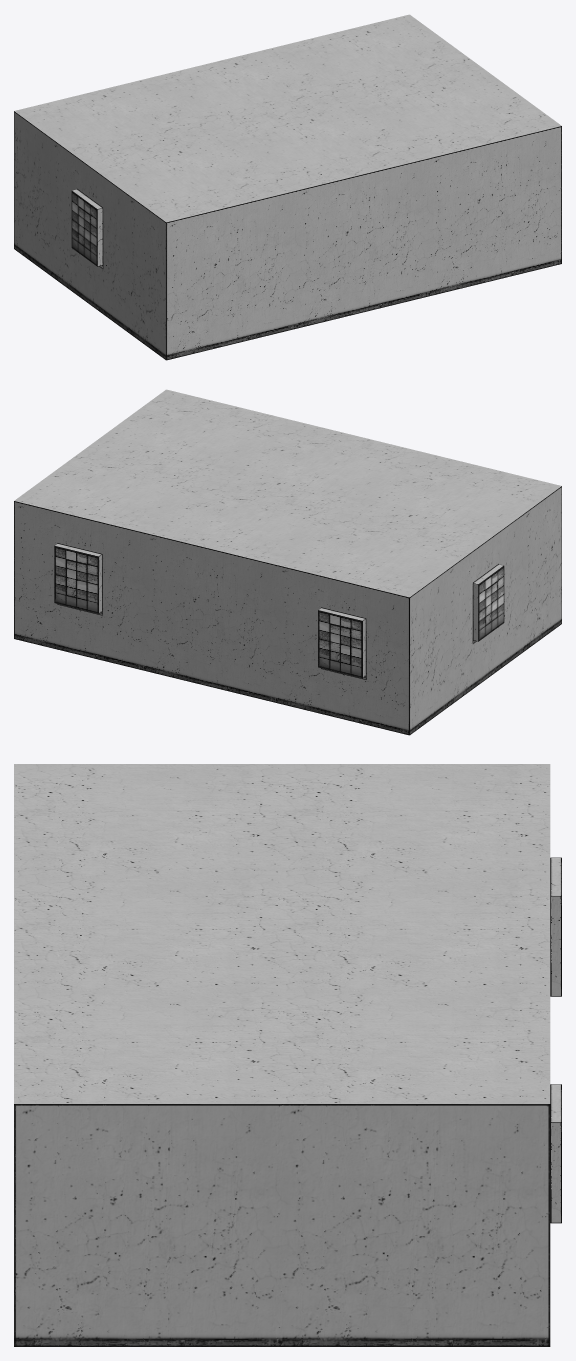
Rendered from Level_House_Test.fbx.
The picture shows the model from 3 angles, top to bottom: view 1: azimuth 30°, elevation 25°; view 2: azimuth 150°, elevation 25°; view 3: azimuth 270°, elevation 25°; orthographic projection. The views are drawn at different scales.
Parts seen in each view (by area): view 1: Ceiling_01, Wall_04, Wall_01; view 2: Ceiling_01, Wall_02, Wall_01; view 3: Ceiling_01, Wall_03, Wall_02.
Part boxes in pixels (<box>): Ceiling_01: <box>14,14,561,222</box>; Wall_04: <box>166,126,561,360</box>; Wall_01: <box>14,111,166,359</box>; Ceiling_01: <box>14,389,561,597</box>; Wall_02: <box>14,501,409,735</box>; Wall_01: <box>409,486,561,734</box>; Ceiling_01: <box>14,764,550,1103</box>; Wall_03: <box>14,1104,550,1346</box>; Wall_02: <box>550,857,561,1223</box>.
Size of the model in its own units: 913 by 300 by 613.
